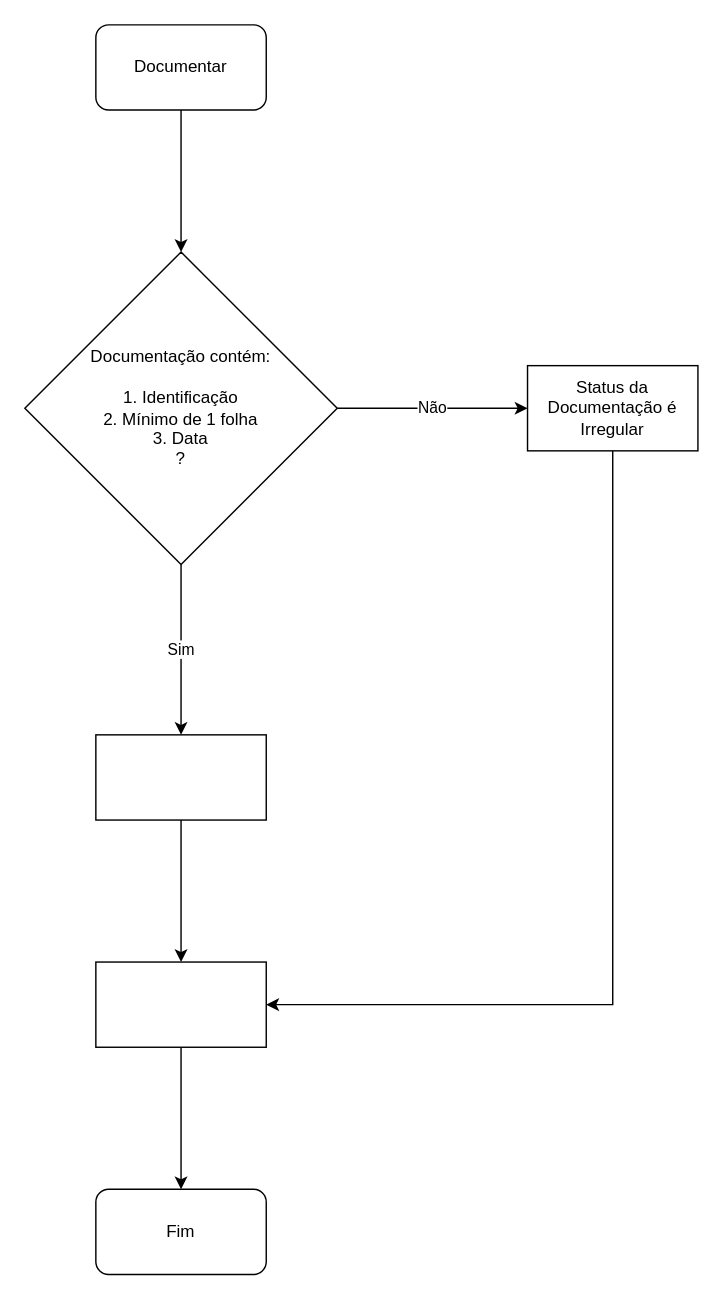
Some shapes in this 723 by 1299 pixel diagram are drawn without their labels. The centre of each missing label's shape, as x and y in pixels:
"Retorne Status da Documentação" belongs at (180,1004).
"Status da Documentação é Regular" belongs at (180,776).
